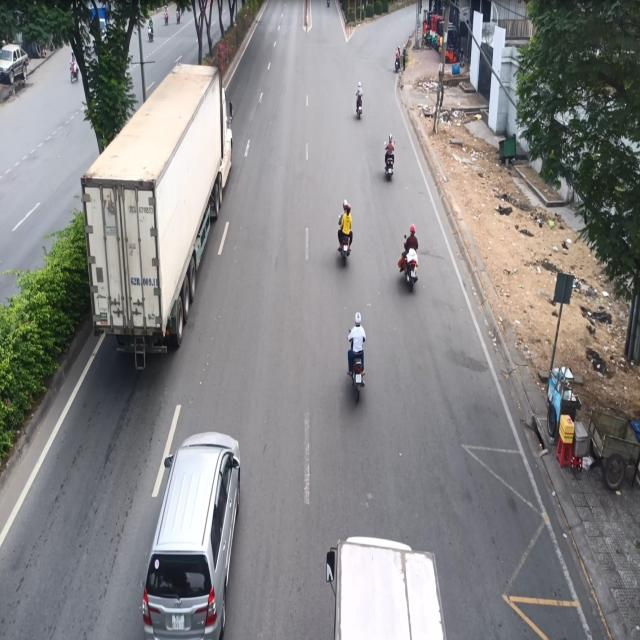car: (144, 413, 246, 640)
motor: (343, 307, 370, 406), (394, 214, 421, 289), (336, 196, 356, 274), (382, 128, 396, 177), (354, 74, 364, 118)
truck: (80, 50, 238, 377)
